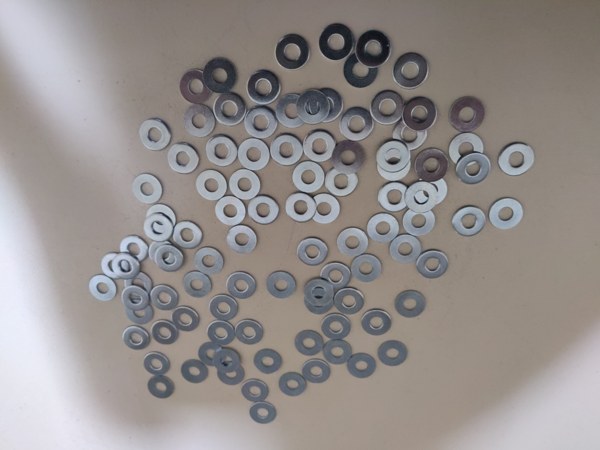circle: (318, 23, 355, 61), (355, 30, 392, 68), (392, 53, 430, 89), (449, 96, 485, 133), (308, 86, 344, 123), (275, 34, 311, 71), (392, 116, 429, 151), (332, 140, 367, 176), (275, 92, 309, 129), (371, 90, 406, 125), (246, 70, 281, 105), (339, 107, 374, 142), (498, 142, 534, 176), (296, 89, 330, 125), (377, 139, 412, 173), (414, 148, 448, 183), (449, 132, 484, 166), (179, 69, 213, 104), (344, 53, 378, 88), (404, 96, 437, 132), (203, 57, 236, 93), (244, 106, 278, 140), (490, 197, 525, 230), (182, 103, 215, 138), (378, 147, 411, 181), (270, 133, 304, 166), (214, 92, 247, 126), (452, 205, 486, 237), (456, 153, 490, 185), (139, 118, 171, 152), (307, 193, 341, 225), (325, 166, 359, 198), (167, 142, 199, 175), (247, 195, 280, 227), (303, 130, 336, 162), (238, 137, 270, 170), (205, 135, 238, 167), (403, 206, 437, 237), (378, 181, 410, 213), (405, 181, 438, 212), (284, 193, 317, 224), (292, 162, 325, 193), (350, 253, 382, 284), (132, 173, 164, 204), (230, 168, 261, 200), (296, 237, 329, 267), (321, 261, 352, 292), (196, 170, 227, 201), (367, 213, 399, 243), (336, 227, 368, 257), (265, 270, 297, 300), (417, 251, 450, 280), (415, 176, 448, 205), (215, 196, 246, 226), (390, 235, 422, 264), (171, 221, 204, 249), (146, 204, 176, 234), (227, 225, 258, 254), (361, 309, 393, 337), (394, 291, 426, 319), (303, 287, 335, 315), (182, 270, 212, 299), (303, 278, 334, 306), (193, 247, 224, 275), (119, 235, 148, 264), (226, 271, 256, 299), (210, 293, 239, 321), (125, 270, 154, 298), (144, 214, 173, 242), (100, 253, 130, 280), (150, 284, 179, 311), (112, 253, 141, 280), (155, 245, 184, 272), (378, 341, 408, 367), (295, 331, 325, 357), (335, 288, 365, 314), (235, 319, 263, 346), (324, 339, 353, 365), (321, 314, 350, 340), (89, 275, 118, 301), (148, 240, 177, 266), (125, 300, 155, 325), (151, 320, 179, 346), (207, 320, 235, 346), (348, 354, 377, 379), (121, 286, 150, 311), (171, 307, 199, 332), (254, 350, 282, 375), (303, 359, 331, 384), (148, 376, 177, 400), (215, 348, 241, 374), (124, 327, 150, 352), (181, 360, 208, 384), (199, 343, 225, 367), (250, 401, 277, 424), (242, 380, 269, 403), (144, 353, 171, 376), (279, 374, 307, 396), (218, 364, 245, 386)
